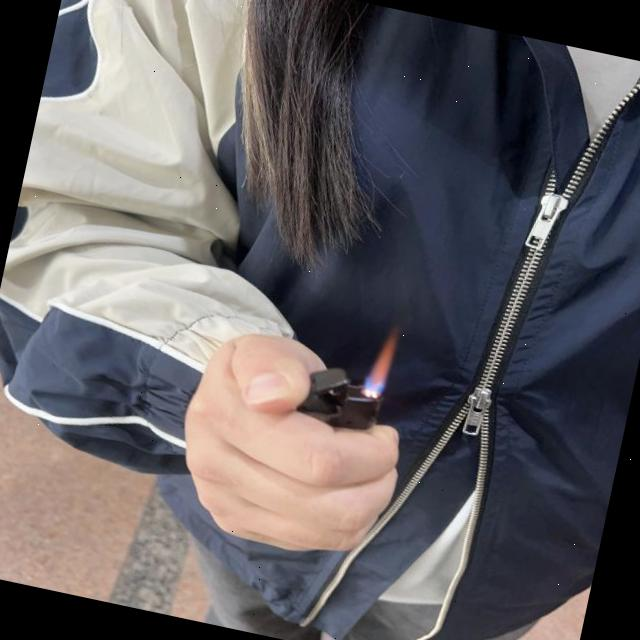fire: (360, 322, 402, 399)
